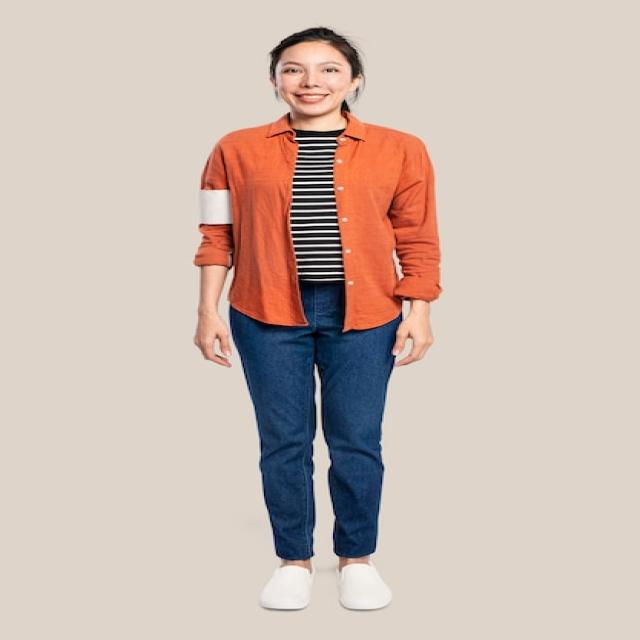Person: (196, 25, 439, 611)
